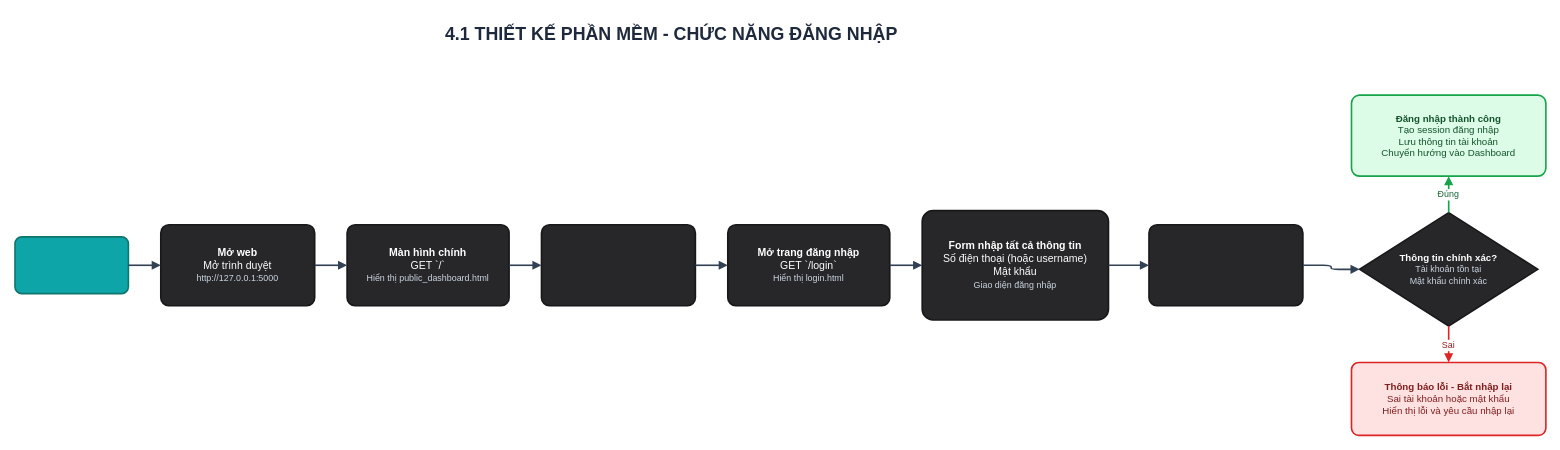
This 1560x450 diagram has some shape labels left out. The shapes that lost their labels are listed below. From the top down, each one's centre as x and y in pixels, then its label:
[71,265]: START
[618,265]: Bấm Đăng nhập Nhấn nút 'Đăng nhập' Trên màn hình chính
[1225,265]: Bấm Đăng nhập Nhấn nút 'Đăng nhập' Gửi thông tin xác thực
